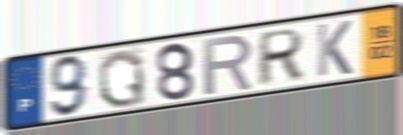8: (155, 40, 196, 102)
9: (47, 53, 92, 119)
K: (314, 19, 354, 79)
Q: (96, 47, 148, 110)
R: (201, 33, 255, 98), (255, 25, 308, 89)
